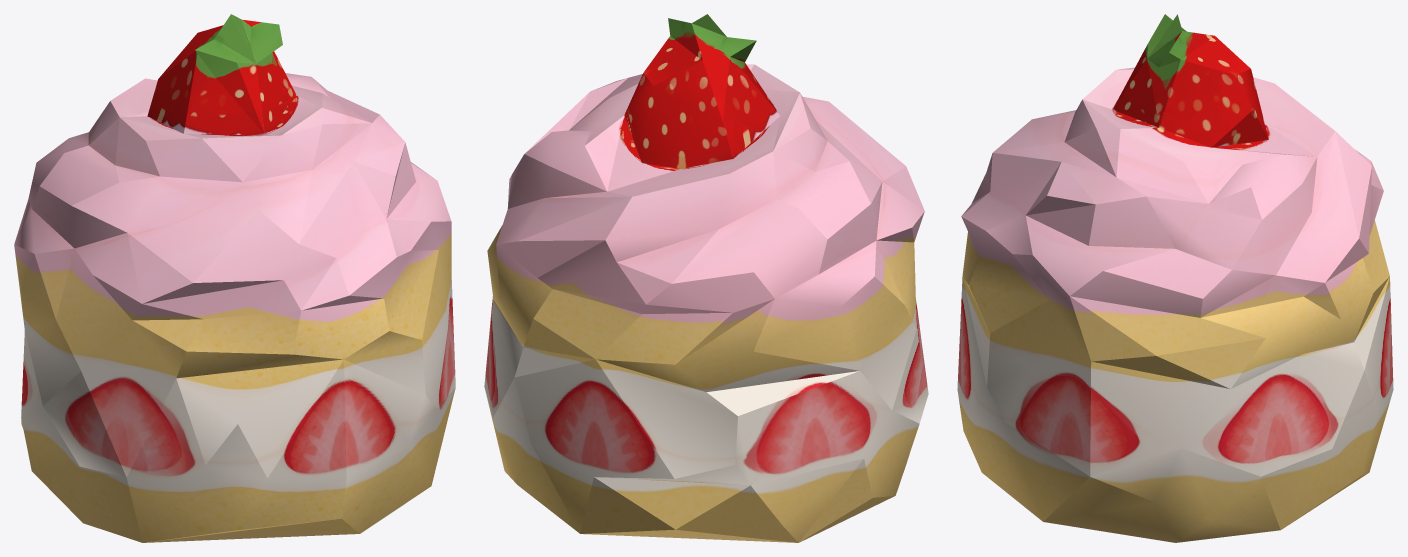
File: source.fbx
The picture shows the model from 3 angles, left to right: view 1: azimuth 30°, elevation 25°; view 2: azimuth 150°, elevation 25°; view 3: azimuth 270°, elevation 25°; orthographic projection. The views are drawn at different scales.
Parts seen in each view (by area): view 1: output_unwrapped; view 2: output_unwrapped; view 3: output_unwrapped.
Part boxes in pixels (box(x1,y1,x2,y2)): output_unwrapped: box(14, 14, 455, 542); output_unwrapped: box(484, 14, 928, 542); output_unwrapped: box(957, 14, 1393, 542).
Size of the model in its own units: 15.76 by 18 by 15.99.
Materials: 1 (1 with a texture image).
